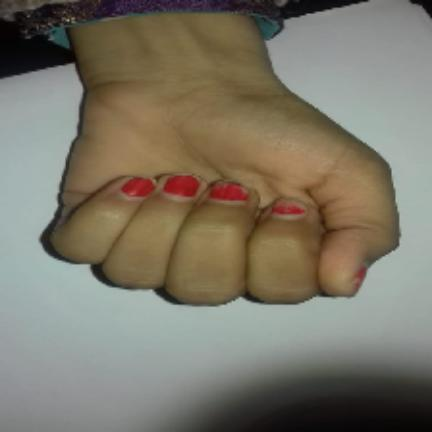Nail: (164, 175, 200, 197), (121, 176, 154, 198), (209, 182, 248, 200), (272, 201, 305, 215), (354, 266, 368, 295)
